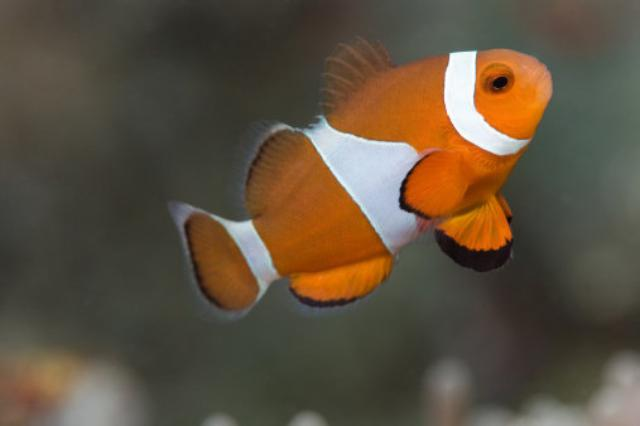Mulut: (501, 47, 572, 111)
Sirip Anal: (282, 253, 401, 320)
Sirip Dada: (382, 142, 478, 227)
Sirip Ekor: (154, 192, 272, 344)
Sirip Perut: (426, 190, 532, 290)
Sirip Punggung: (232, 16, 410, 214)
